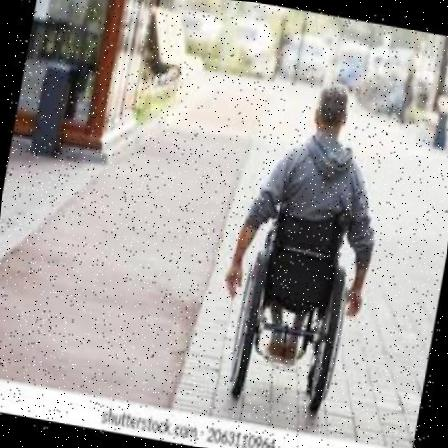wheel: (209, 72, 400, 422)
